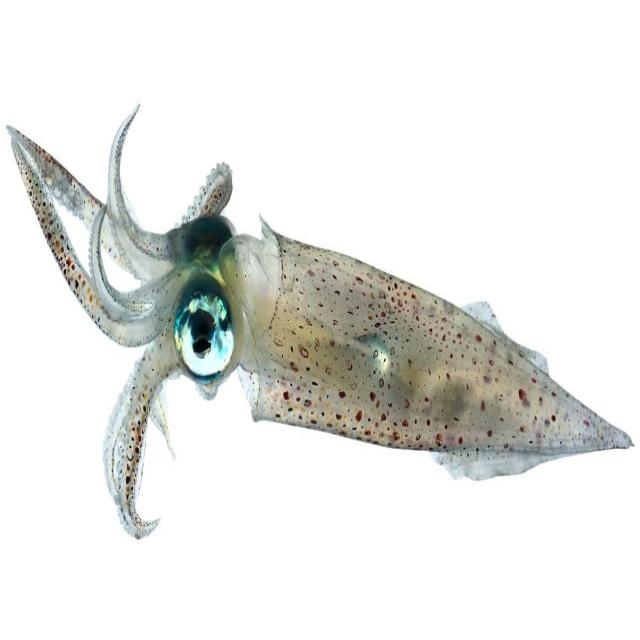squid: (9, 105, 631, 538)
